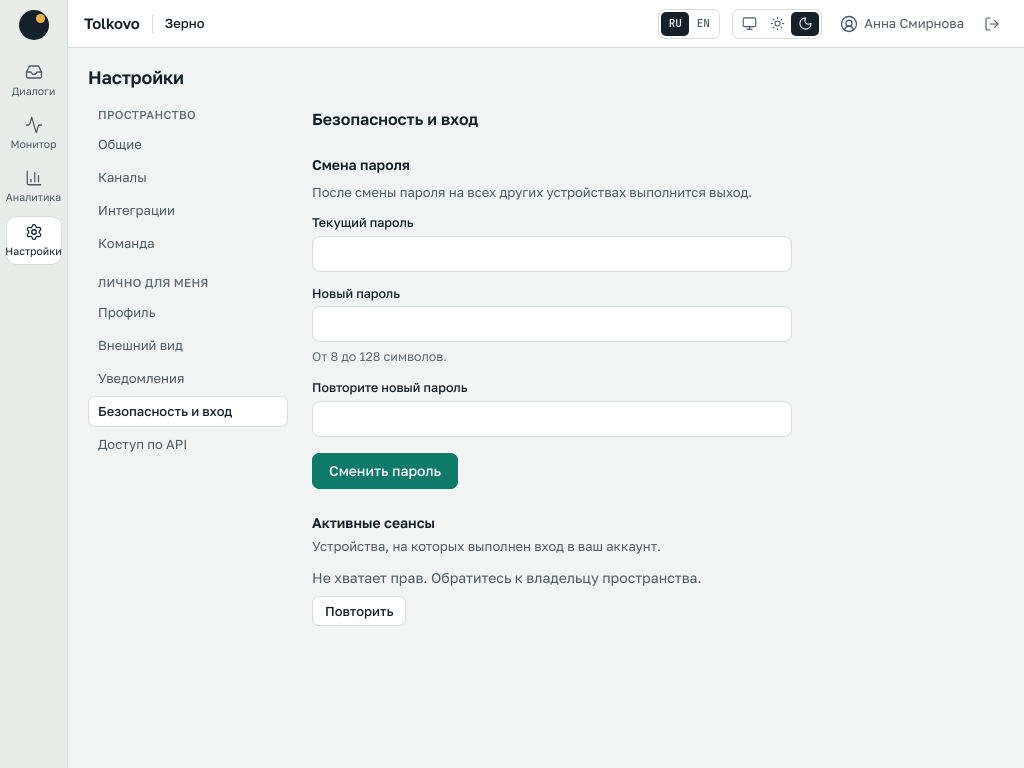
Test case: active sessions › offers a retry when the list fails to load
This screenshot has width=1024, height=768.
Expected: the text "Не хватает прав. Обратитесь к владельцу пространства." is shown, [312,568,702,588]
What coordinates should you click on to do the following:
click the button "Повторить"
I would click on:
 (359, 611)
Its box is [312,596,406,626].
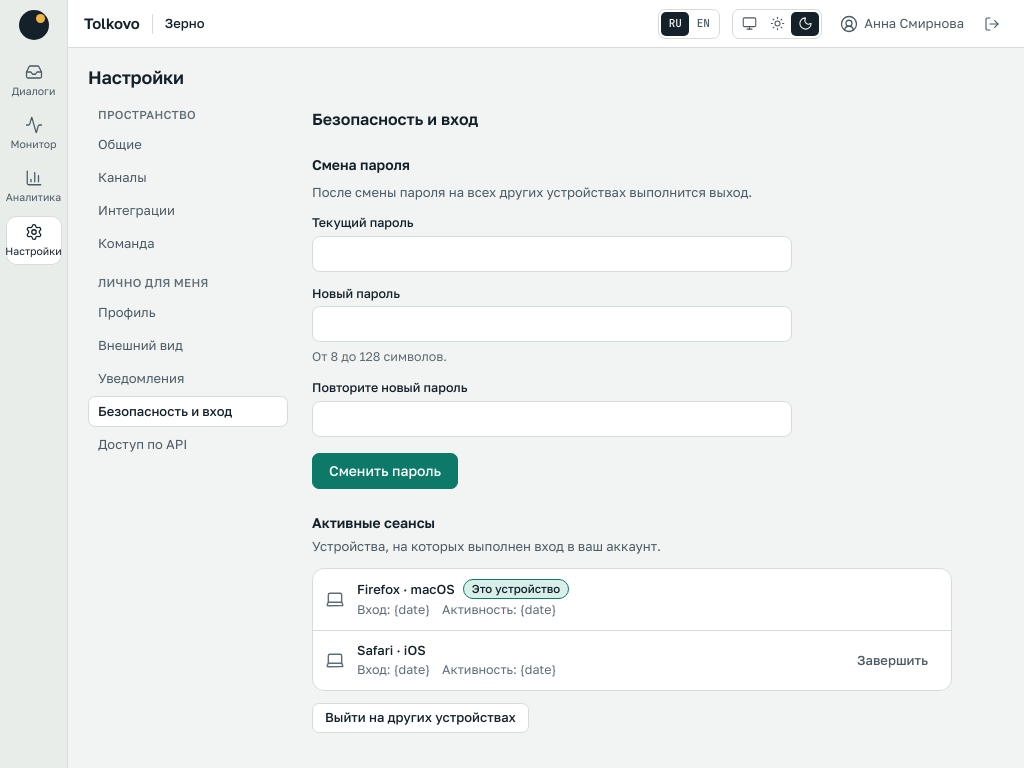
Expected: the text "Firefox · macOS" is shown, [357,580,455,598]
